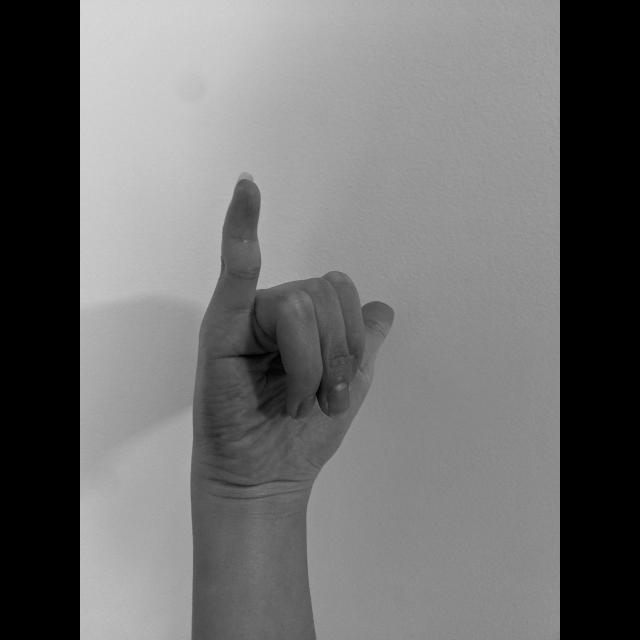Y: (185, 167, 401, 497)
